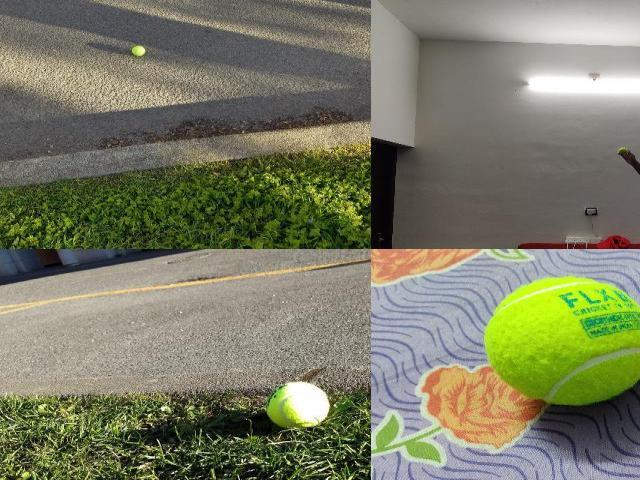tennis-ball: (483, 276, 639, 405), (264, 380, 330, 430), (131, 45, 145, 55), (618, 147, 628, 155)
